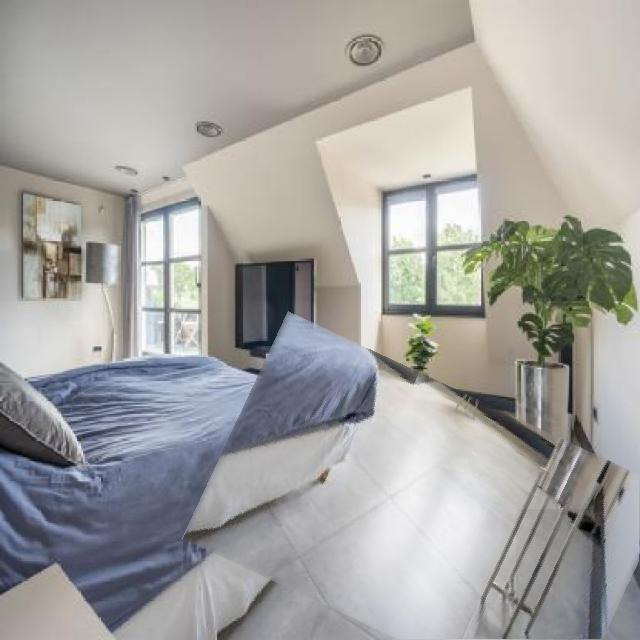floor: (184, 364, 547, 640), (517, 510, 591, 640)
